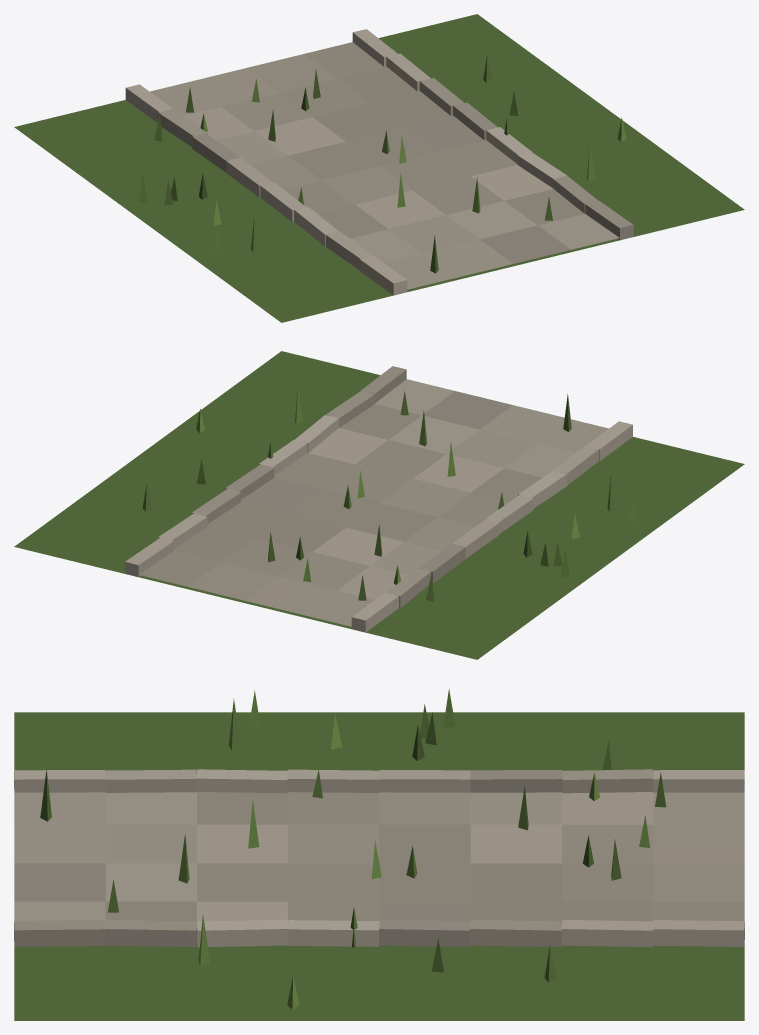
The model's file is cobble-straight.glb.
3 renders of one model, top to bottom at view 1: azimuth 30°, elevation 25°; view 2: azimuth 150°, elevation 25°; view 3: azimuth 270°, elevation 25°, orthographic. The views are drawn at different scales.
Parts seen in each view (by area): view 1: ground/cobble-straight; view 2: ground/cobble-straight; view 3: ground/cobble-straight.
Boxes of the visible parts, x1=… form: ground/cobble-straight: x1=14, y1=14, x2=744, y2=322; ground/cobble-straight: x1=14, y1=351, x2=744, y2=659; ground/cobble-straight: x1=14, y1=689, x2=744, y2=1020.
Bounding box in the file's own units: 4 × 0.3265 × 4.
